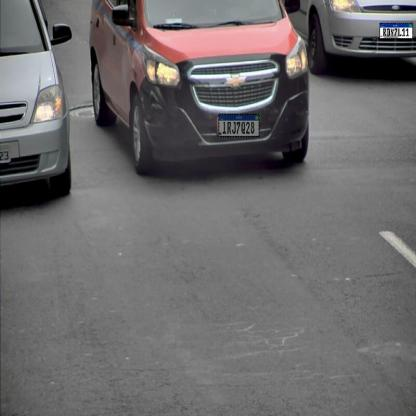PlacaM: (218, 114, 260, 137), (379, 23, 413, 39)
